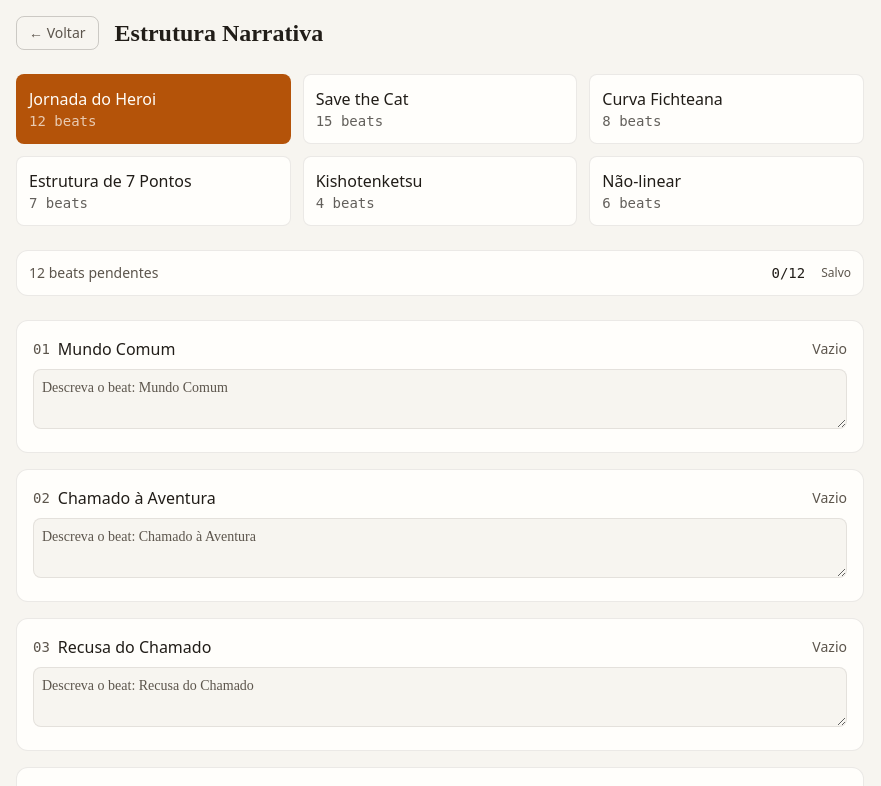
Test: StructurePage › exibe indicador de alterações não salvas e depois salvo
Check: the text "Jornada do Heroi" is shown, box [29,88,156,110]
Type "Mundo comum do herói" into the text box with placeholder "Descreva o beat: Mundo Comum". click: (440, 399)
box: [33,369,847,429]
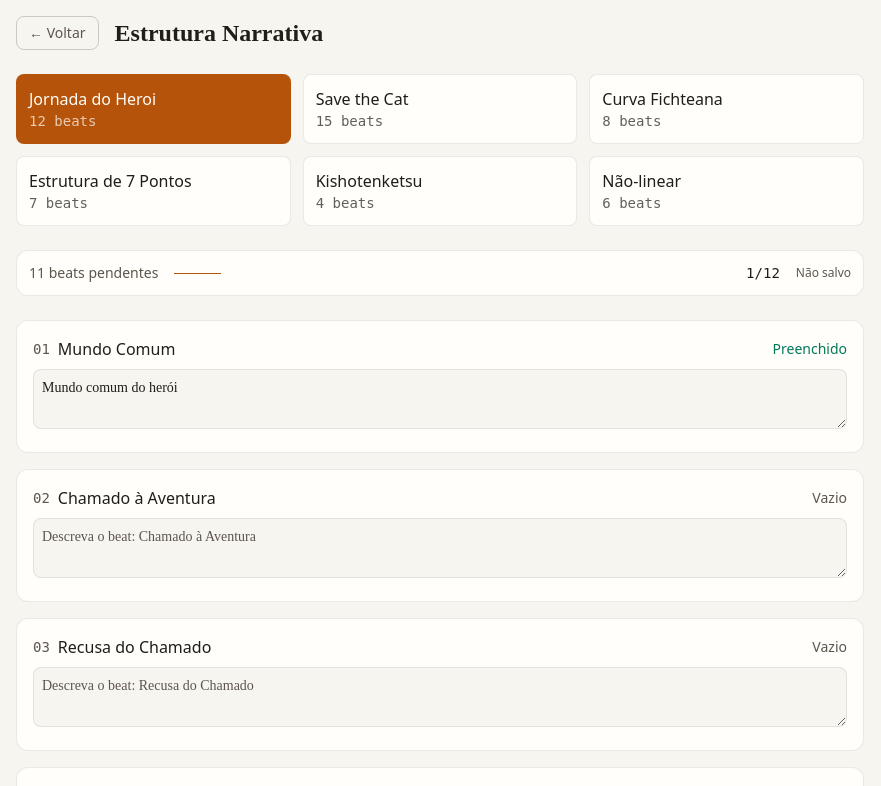
Check: the text "Não salvo" is shown, box [796,265,851,281]
Leave the text box named "Beat: Mundo Comum", box [33,369,847,429]
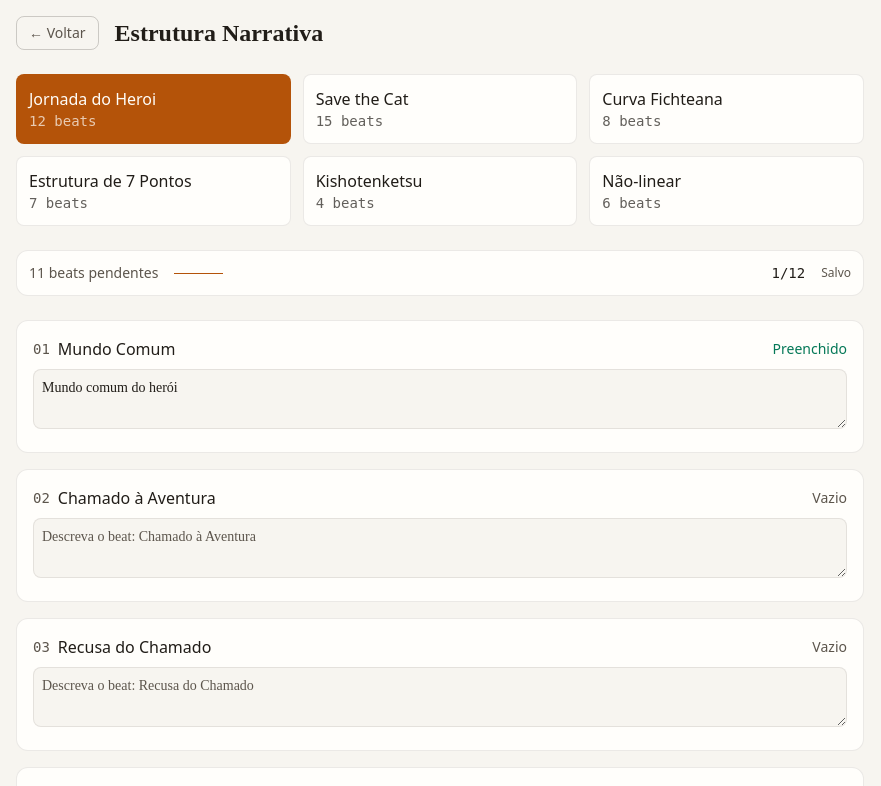
Check: the text "Salvo" is shown, box [821,265,851,281]
